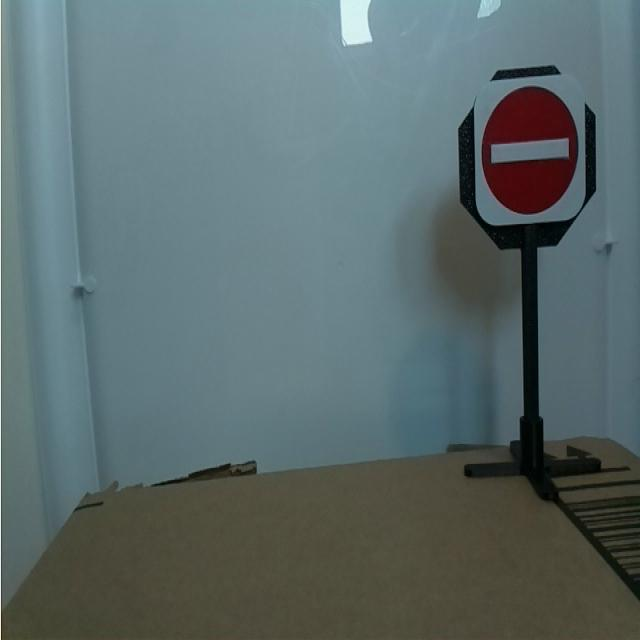sign_noentry: (473, 75, 590, 224)
